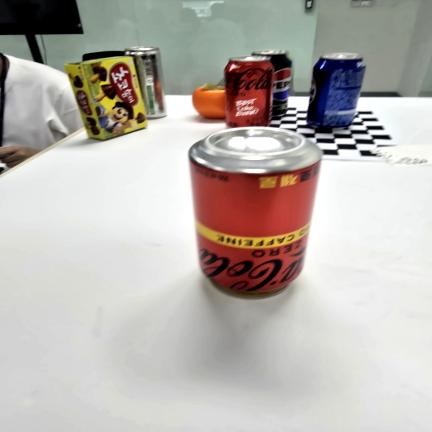can_coke_decaf: (189, 127, 322, 297)
can_coke_zero: (224, 56, 274, 128)
can_pepsi: (306, 53, 365, 129)
can_pepsi_zero: (252, 50, 292, 116)
